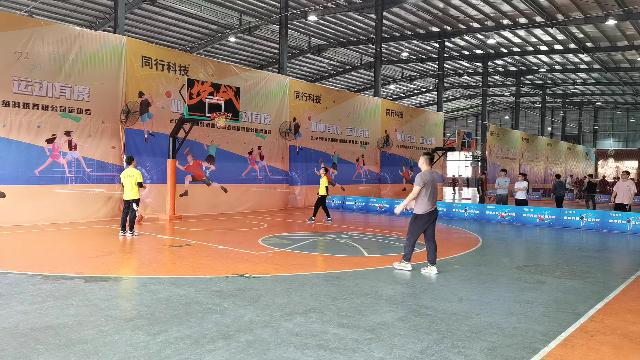ball: (136, 214, 142, 222)
basket: (213, 111, 231, 127)
goal: (217, 116, 226, 126)
